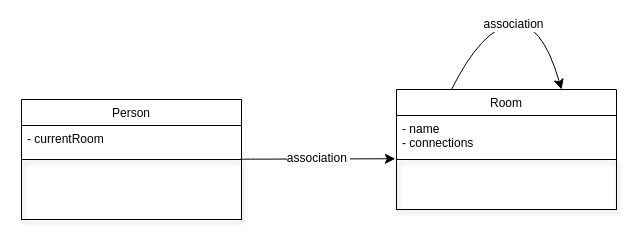
Image size: 640x247. Some labels were removed from this diagram. The centre of each missing label's shape, as x and y in pixels:
"+ connect(direction, room) + getConnectedRoom(direction)" belongs at pixel 507 185.
"+ setLocation(room) + getLocation() + move(direction)" belongs at pixel 132 190.
